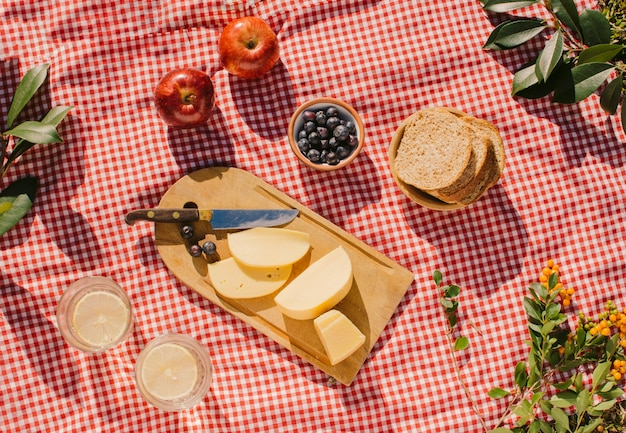knife: (124, 208, 300, 230)
